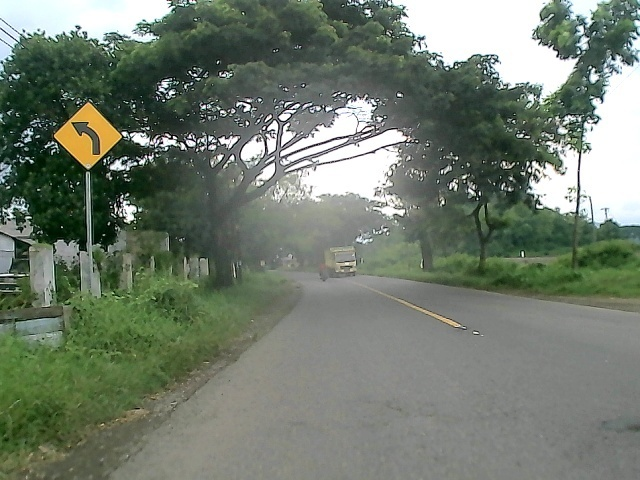Tikungan ke kiri: (50, 101, 124, 171)
